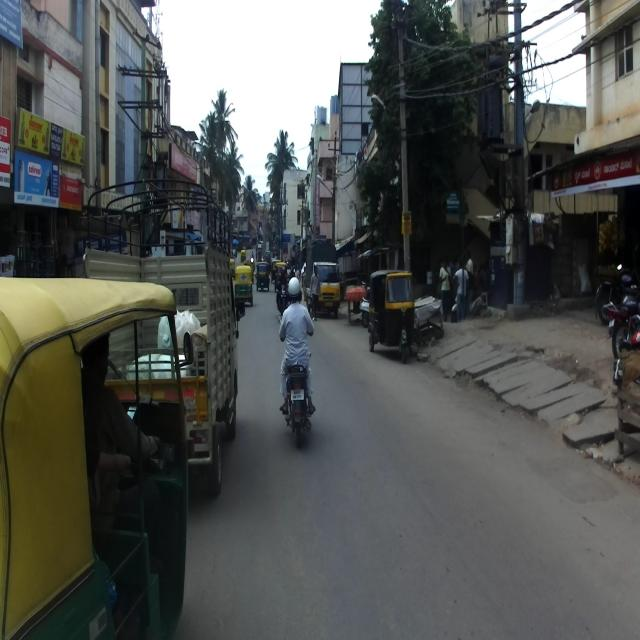autorickshaw: (0, 278, 192, 640), (367, 270, 417, 365), (255, 262, 270, 291)
motorcycle: (277, 312, 315, 448), (602, 299, 640, 355), (276, 282, 289, 317)
scooter: (447, 288, 486, 322), (629, 313, 640, 355), (359, 295, 373, 328)
truck: (86, 177, 245, 499), (306, 242, 341, 317)
